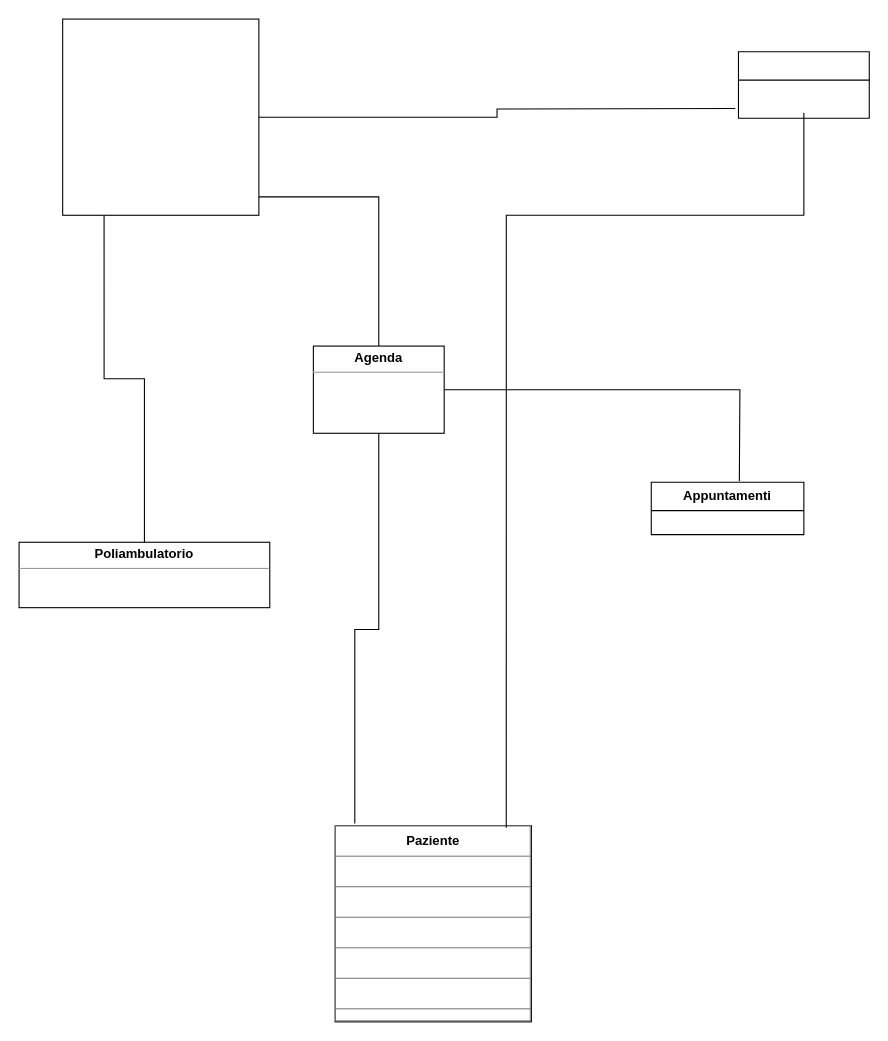
The diagram is 888 pixels wide and 1041 high, and some of its shapes have lost their labels. Each missing label, with the box of its shape:
Medico: (62, 18, 259, 215)
Specializzazione: (737, 51, 869, 118)
